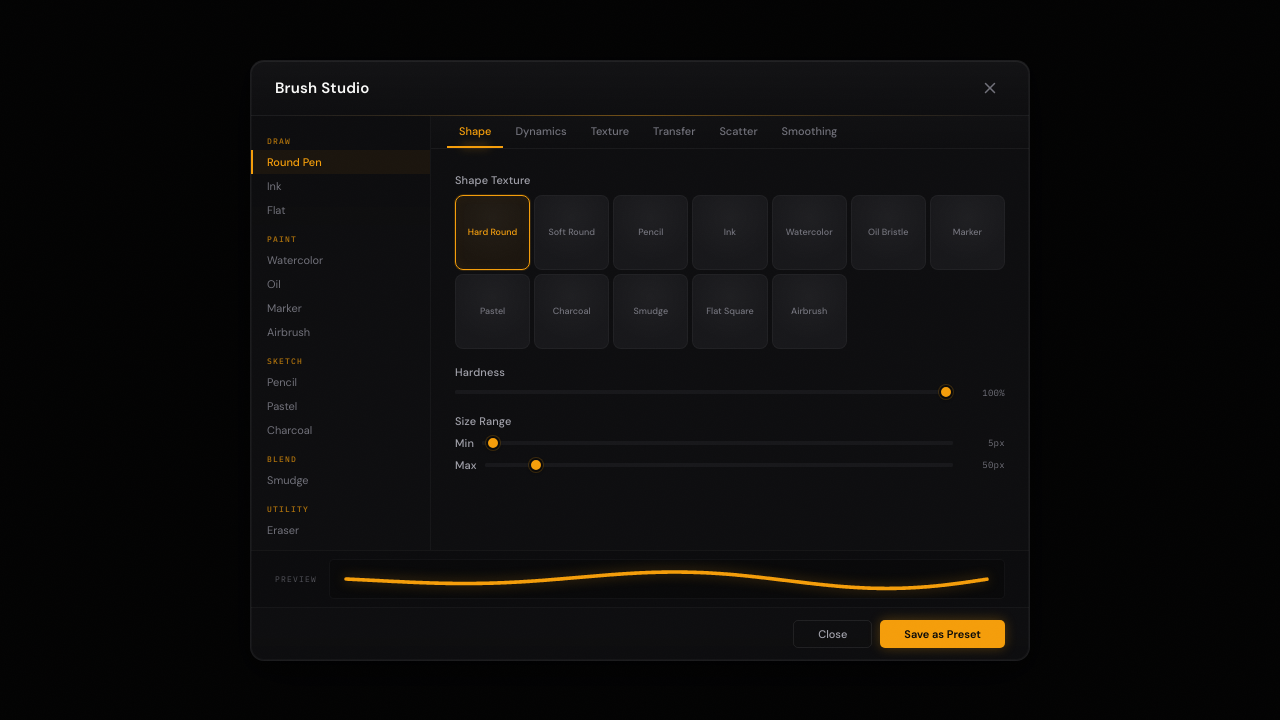
BrushStudio › disables save button when name is empty
The width and height of the screenshot is (1280, 720).
Click the button "Save as Preset": [943, 634] box [880,620,1005,648]
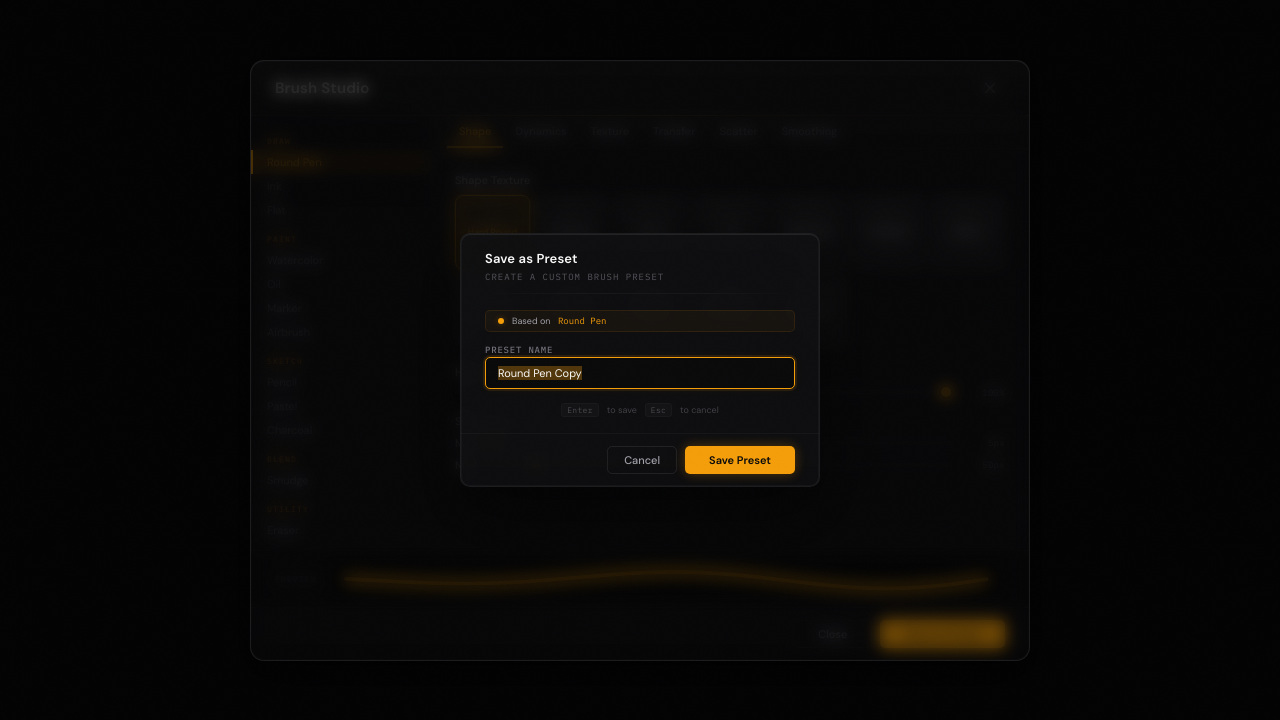
Clear the field named "Preset name": [640, 373] box [485,357,795,389]
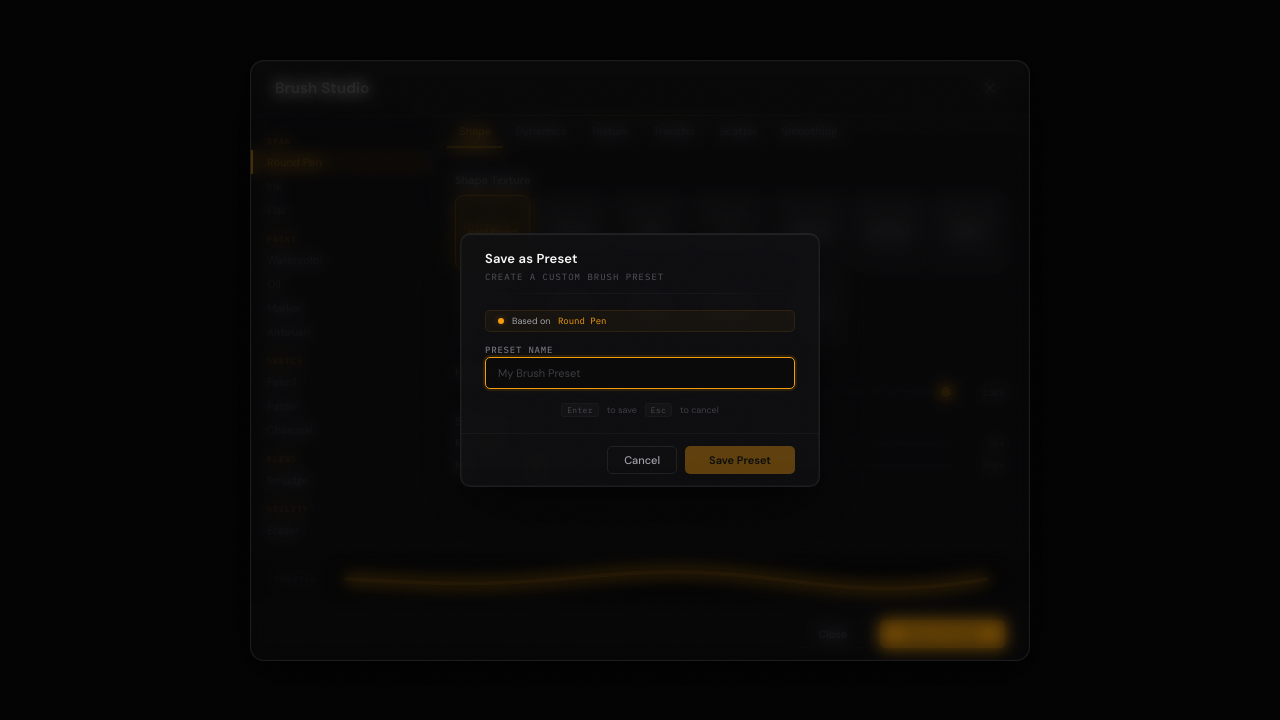
Expected: the button "Save Preset" is disabled, [685,446,795,474]
